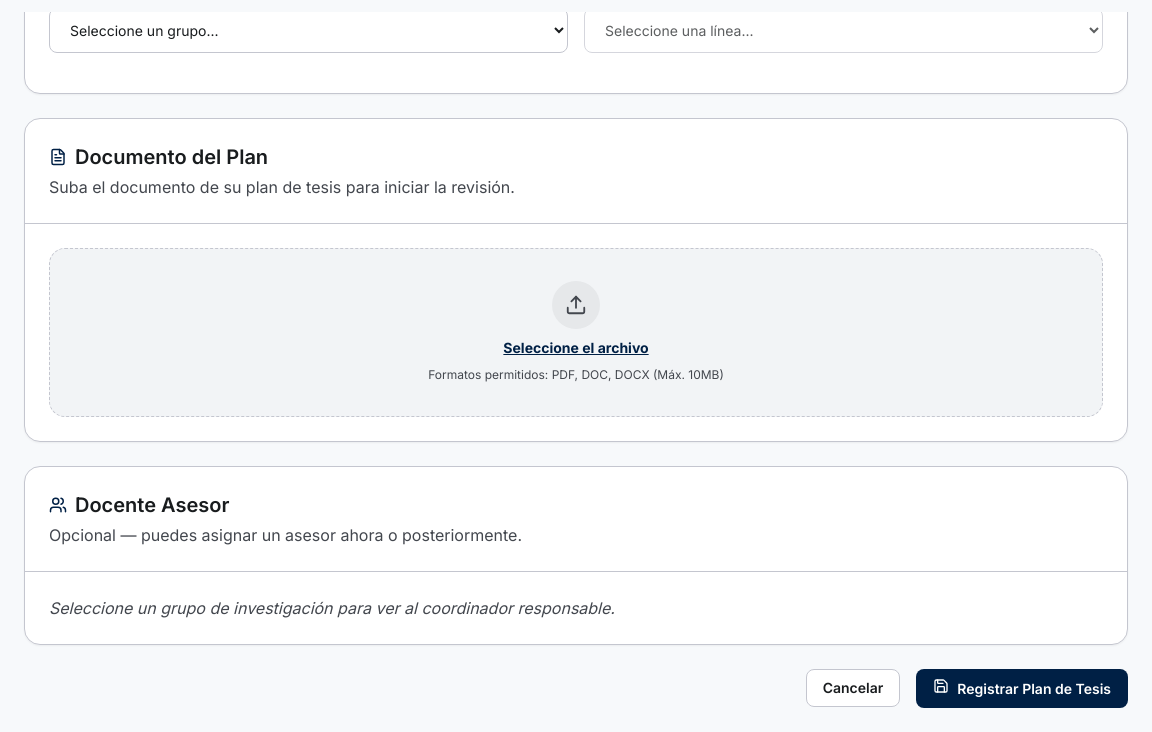
Test: NewThesisPlan › shows validation error for short title
Click the button "Registrar Plan de Tesis".
click(1022, 688)  # box [916,669,1128,708]
(page scrolled)
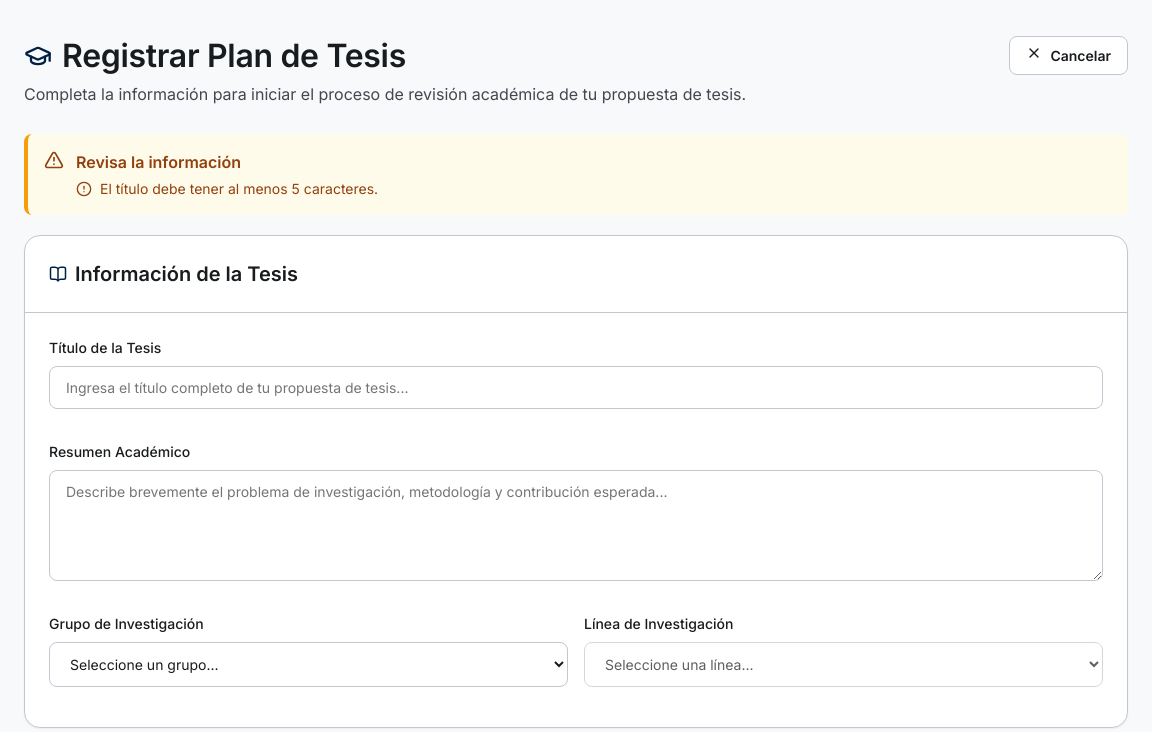
Expected: the text "El título debe tener al menos 5 caracteres." is shown, [100,178,378,199]
